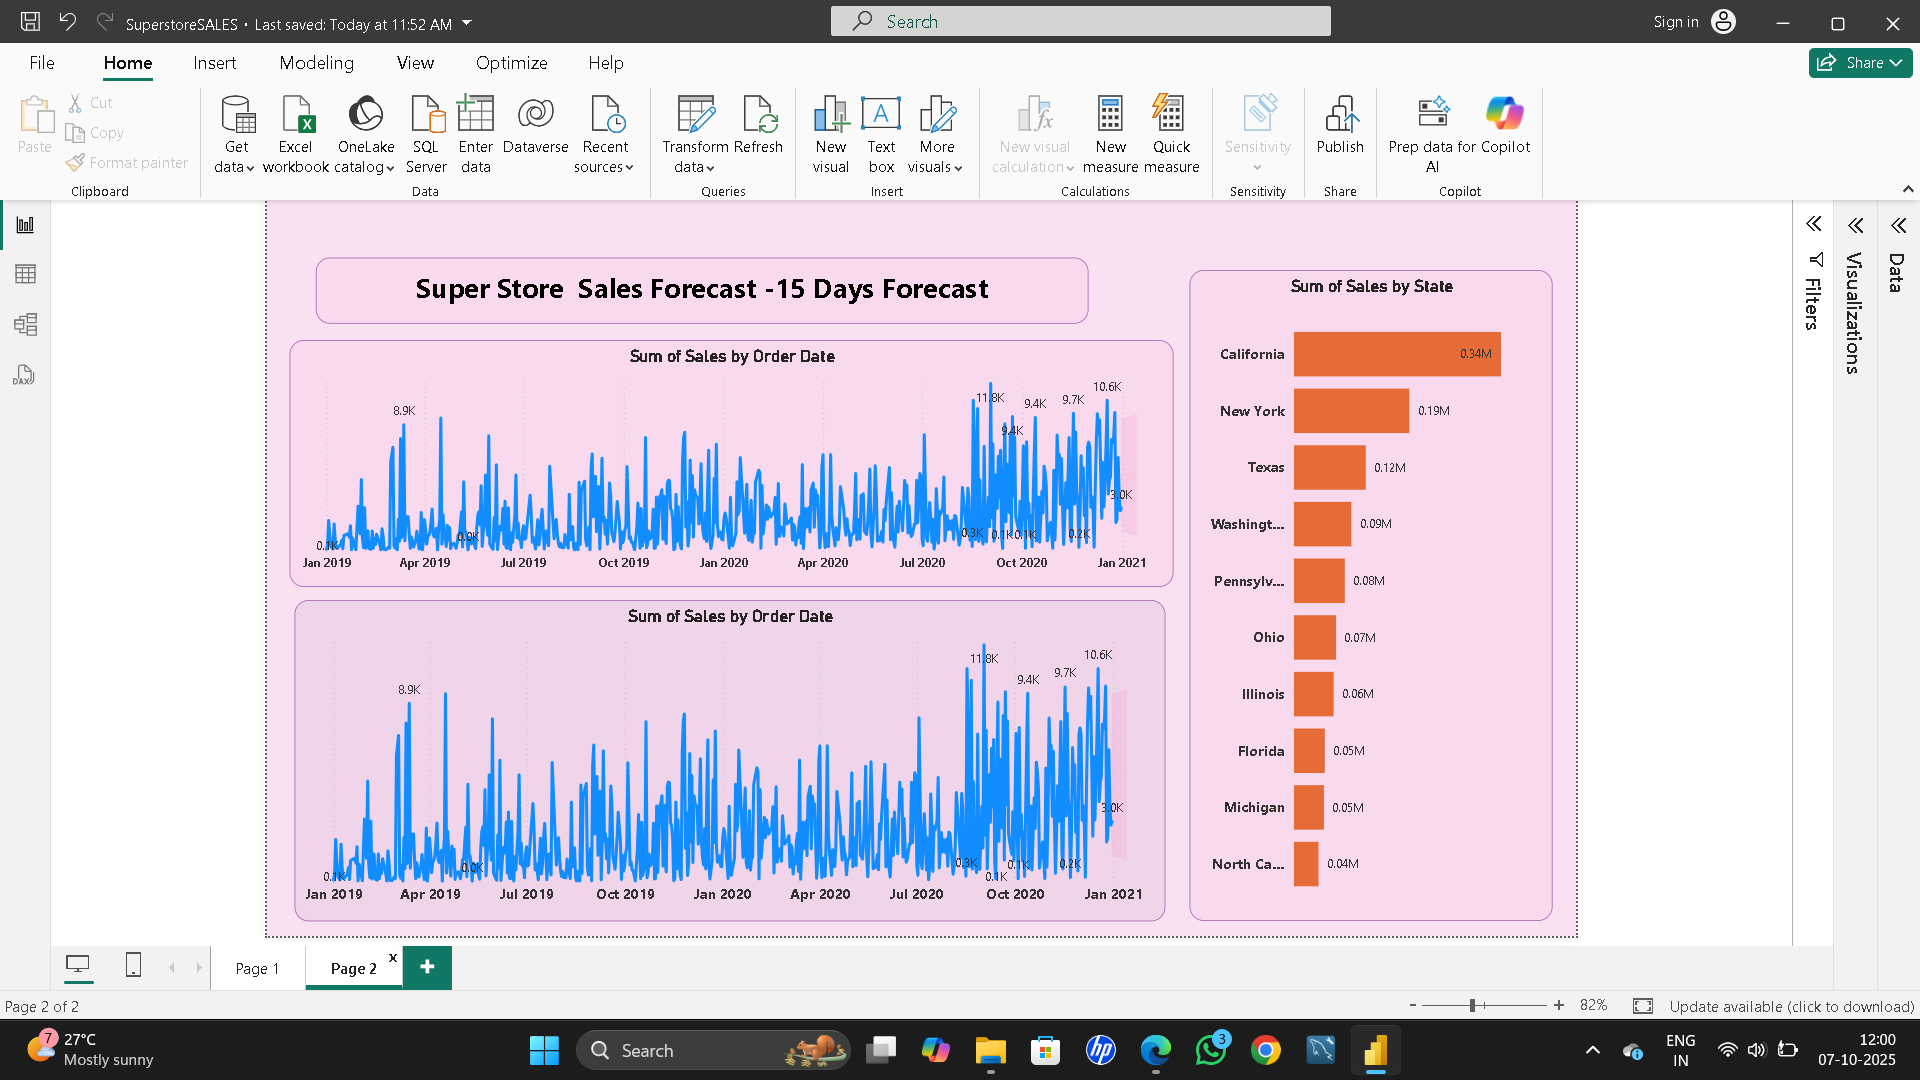

What the dashboard file says about the page in this screenshot:
{"tool":"powerbi","page":{"name":"Page 2","canvas":[1280,720],"ordinal":1},"visuals":[{"type":"lineChart","fields":{"Y":["Sum(SuperStore_Sales_Dataset.Sales)"],"Category":["SuperStore_Sales_Dataset.Order Date"]},"box":[22,137.2,864.5,241.5],"z":0},{"type":"lineChart","fields":{"Y":["Sum(SuperStore_Sales_Dataset.Sales)"],"Category":["SuperStore_Sales_Dataset.Order Date"]},"box":[27.4,391.1,852.1,314.2],"z":1},{"type":"clusteredBarChart","fields":{"Category":["SuperStore_Sales_Dataset.State"],"Y":["Sum(SuperStore_Sales_Dataset.Sales)"]},"box":[902.9,68.6,355.4,636.7],"z":2},{"type":"textbox","box":[48,56.3,756.1,64.5],"z":3}]}

Visuals, with their boxes on the page's 1280x720 design canvas (x1, y1, x2, y2). These are canvas units, not pixel positions in the 1920x1080 screenshot, which may show the page scaled, cropped or inside an application window:
lineChart - Sum(SuperStore_Sales_Dataset.Sales) x SuperStore_Sales_Dataset.Order Date: left=22, top=137, right=886, bottom=379
lineChart - Sum(SuperStore_Sales_Dataset.Sales) x SuperStore_Sales_Dataset.Order Date: left=27, top=391, right=880, bottom=705
clusteredBarChart - SuperStore_Sales_Dataset.State x Sum(SuperStore_Sales_Dataset.Sales): left=903, top=69, right=1258, bottom=705
textbox: left=48, top=56, right=804, bottom=121
